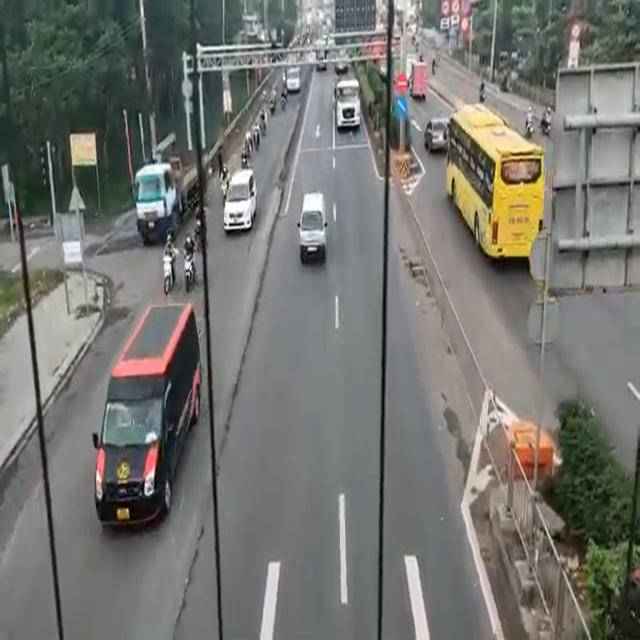bus: (454, 107, 534, 264)
car: (94, 299, 197, 527), (221, 167, 256, 232)
motor: (158, 244, 175, 294), (182, 252, 196, 292)
truck: (134, 164, 189, 238), (300, 188, 329, 265), (336, 78, 360, 130)
